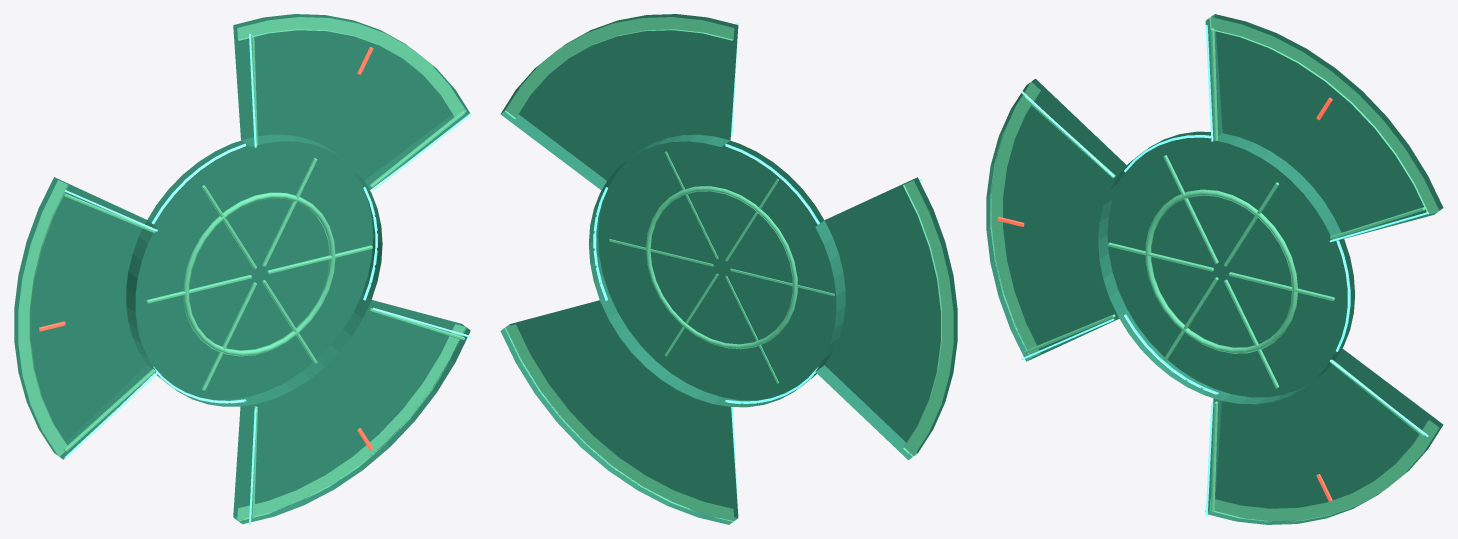
Rendered from bio-panel-fun10-medium.glb.
3 renders of one model, left to right at view 1: azimuth 30°, elevation 25°; view 2: azimuth 150°, elevation 25°; view 3: azimuth 330°, elevation 25°, orthographic.
Parts seen in each view (by area): view 1: RENDER_PANEL_SHELL, RENDER_PANEL_FRAME, RENDER_PANEL_SIGNAL; view 2: RENDER_PANEL_SHELL, RENDER_PANEL_FRAME, RENDER_PANEL_SIGNAL; view 3: RENDER_PANEL_SHELL, RENDER_PANEL_FRAME, RENDER_PANEL_SIGNAL.
Part boxes in pixels (x1,y1,x2,y2): RENDER_PANEL_SHELL: [14, 14, 470, 524]; RENDER_PANEL_FRAME: [18, 17, 466, 521]; RENDER_PANEL_SIGNAL: [64, 34, 471, 524]; RENDER_PANEL_SHELL: [500, 14, 957, 524]; RENDER_PANEL_FRAME: [505, 17, 953, 521]; RENDER_PANEL_SIGNAL: [593, 22, 922, 513]; RENDER_PANEL_SHELL: [986, 14, 1443, 524]; RENDER_PANEL_FRAME: [990, 17, 1439, 521]; RENDER_PANEL_SIGNAL: [1021, 25, 1428, 516].
Size of what is drawn, in the model's own units: 38.88 by 40.92 by 1.95.
